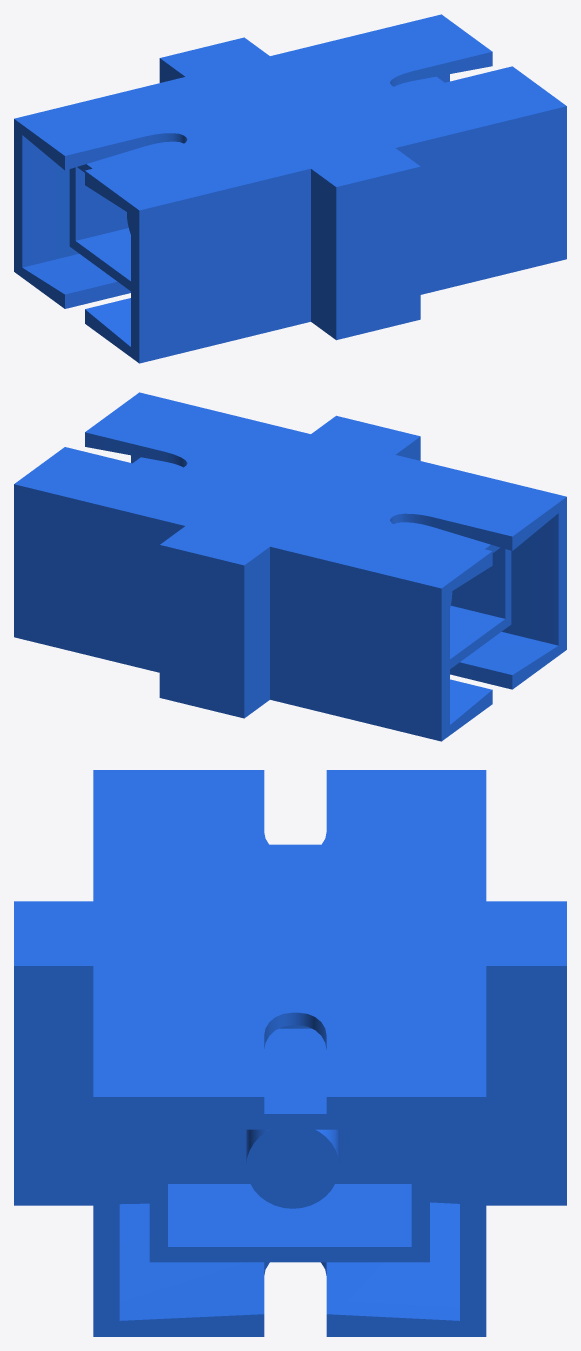
The model's file is Barel.fbx.
The picture shows the model from 3 angles, top to bottom: view 1: azimuth 30°, elevation 25°; view 2: azimuth 150°, elevation 25°; view 3: azimuth 270°, elevation 25°; orthographic projection. The views are drawn at different scales.
Parts seen in each view (by area): view 1: Cube; view 2: Cube; view 3: Cube.
Part boxes in pixels (left/top/right/bottom): Cube: left=14, top=14, right=566, bottom=363; Cube: left=14, top=392, right=566, bottom=741; Cube: left=14, top=770, right=566, bottom=1336.
Size of the model in its own units: 238 by 81.27 by 170.
